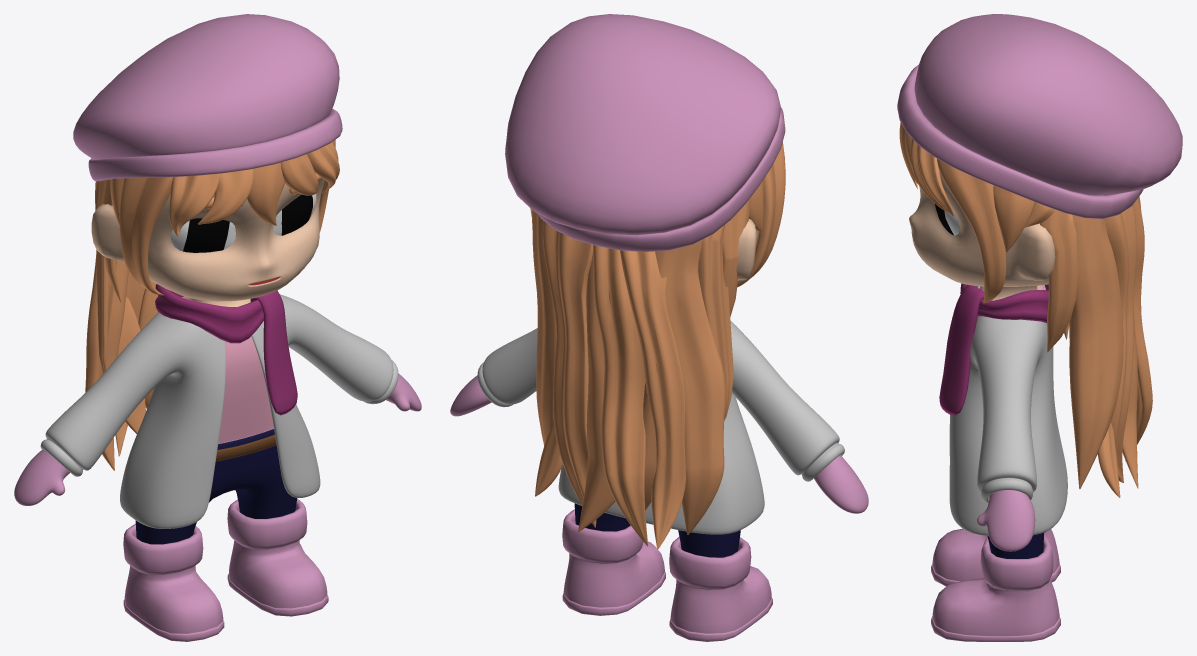
The model's file is ModeloAnastasia.fbx.
3 views of the same model, side by side, from view 1: azimuth 30°, elevation 25°; view 2: azimuth 150°, elevation 25°; view 3: azimuth 270°, elevation 25° (orthographic). The views are drawn at different scales.
Parts seen in each view (by area): view 1: Cuerpo, Gorro, Pelo, Circle, Ojos, Cinturon; view 2: Pelo, Gorro, Cuerpo; view 3: Cuerpo, Gorro, Pelo, Circle.
Part boxes in pixels (box(x1,y1,x2,y2)): Cuerpo: box(14, 178, 421, 641); Gorro: box(73, 14, 342, 181); Pelo: box(85, 139, 339, 470); Circle: box(155, 284, 297, 415); Ojos: box(170, 193, 316, 252); Cinturon: box(215, 434, 276, 461); Pelo: box(531, 142, 785, 549); Gorro: box(505, 14, 785, 251); Cuerpo: box(450, 208, 868, 641); Cuerpo: box(909, 172, 1067, 641); Gorro: box(897, 14, 1182, 218); Pelo: box(899, 122, 1152, 497); Circle: box(939, 283, 1048, 415).
Size of the model in its own units: 510 by 683 by 304.
